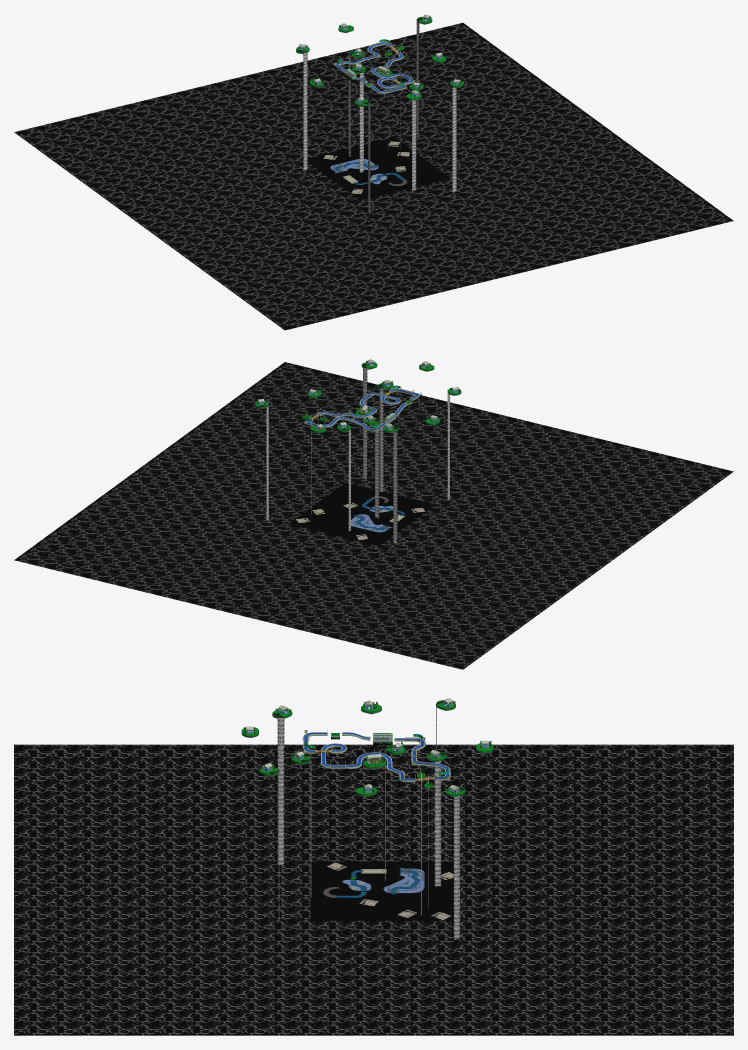
3 renders of one model, top to bottom at view 1: azimuth 30°, elevation 25°; view 2: azimuth 150°, elevation 25°; view 3: azimuth 270°, elevation 25°, orthographic. The views are drawn at different scales.
Visible parts, largest first — view 1: celestial_ruins_v2_Main-ef_wave1P_Mip, celestial_ruins_v2_Main-abyssal, celestial_ruins_v2_Main-WT_taki01, celestial_ruins_v2_Main-edge, celestial_ruins_v2_Main-mid, celestial_ruins_v2_Main-grass, celestial_ruins_v2_Main-wall; view 2: celestial_ruins_v2_Main-ef_wave1P_Mip, celestial_ruins_v2_Main-abyssal, celestial_ruins_v2_Main-WT_taki01, celestial_ruins_v2_Main-edge, celestial_ruins_v2_Main-mid, celestial_ruins_v2_Main-grass, celestial_ruins_v2_Main-wall; view 3: celestial_ruins_v2_Main-ef_wave1P_Mip, celestial_ruins_v2_Main-abyssal, celestial_ruins_v2_Main-WT_taki01, celestial_ruins_v2_Main-edge, celestial_ruins_v2_Main-mid, celestial_ruins_v2_Main-grass, celestial_ruins_v2_Main-wall, celestial_ruins_v2_Main-rockwall.
Boxes of the visible parts, x1,y1,x2,y2 form: celestial_ruins_v2_Main-ef_wave1P_Mip: [14, 18, 733, 330]; celestial_ruins_v2_Main-abyssal: [307, 137, 449, 200]; celestial_ruins_v2_Main-WT_taki01: [303, 21, 456, 211]; celestial_ruins_v2_Main-edge: [299, 14, 460, 102]; celestial_ruins_v2_Main-mid: [300, 18, 459, 102]; celestial_ruins_v2_Main-grass: [296, 16, 463, 104]; celestial_ruins_v2_Main-wall: [299, 17, 459, 103]; celestial_ruins_v2_Main-ef_wave1P_Mip: [14, 362, 733, 669]; celestial_ruins_v2_Main-abyssal: [289, 482, 435, 545]; celestial_ruins_v2_Main-WT_taki01: [266, 367, 449, 544]; celestial_ruins_v2_Main-edge: [258, 359, 458, 430]; celestial_ruins_v2_Main-mid: [258, 363, 457, 429]; celestial_ruins_v2_Main-grass: [255, 362, 461, 431]; celestial_ruins_v2_Main-wall: [258, 362, 458, 432]; celestial_ruins_v2_Main-ef_wave1P_Mip: [14, 701, 733, 1035]; celestial_ruins_v2_Main-abyssal: [310, 861, 453, 920]; celestial_ruins_v2_Main-WT_taki01: [277, 705, 460, 938]; celestial_ruins_v2_Main-edge: [246, 698, 488, 792]; celestial_ruins_v2_Main-mid: [247, 703, 488, 792]; celestial_ruins_v2_Main-grass: [241, 700, 493, 794]; celestial_ruins_v2_Main-wall: [247, 701, 488, 793]; celestial_ruins_v2_Main-rockwall: [241, 700, 493, 797].
Bounding box in the file's own units: 444861 × 123414 × 464794.
Materials: 24 (23 with a texture image).
